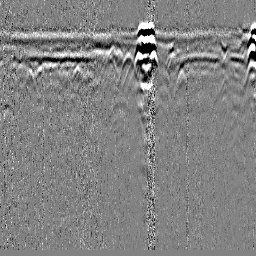cavity: (117, 50, 139, 85)
